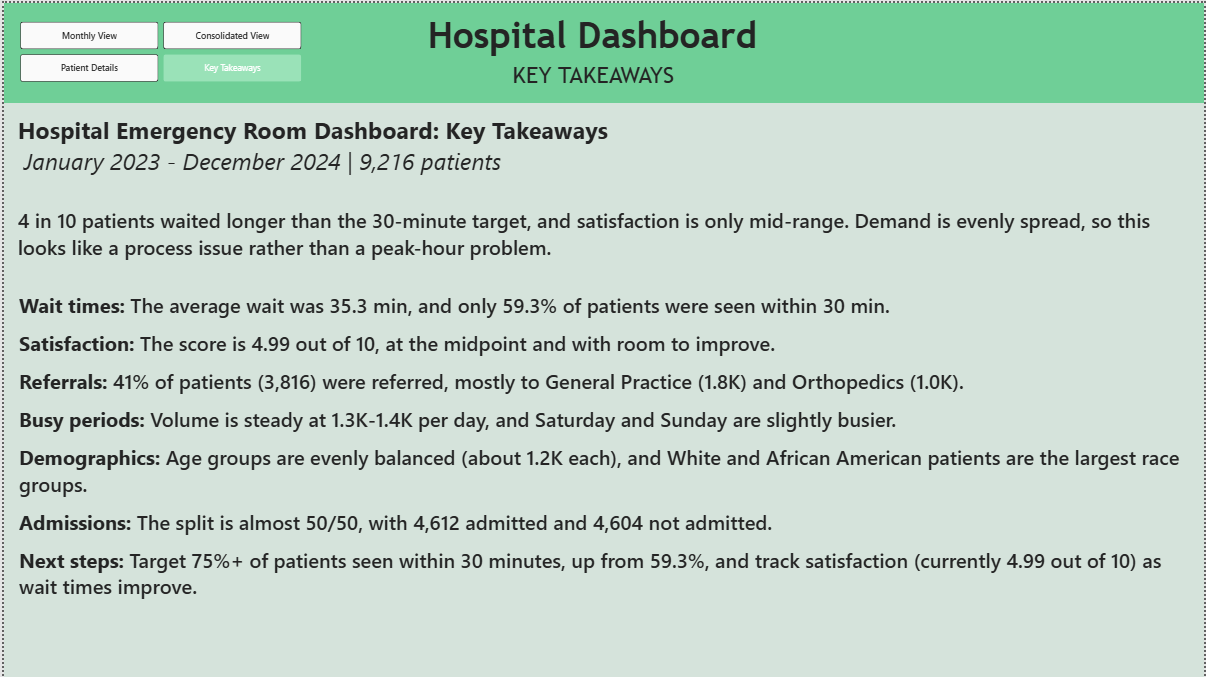

Layout of this report page (visuals, bound fields, positions):
{"tool":"powerbi","page":{"name":"Key Takeaways","canvas":[1920,1080],"ordinal":3},"visuals":[{"type":"shape","box":[0,0,1920,160],"z":0},{"type":"textbox","box":[677.9,16.4,810,75],"z":1000},{"type":"textbox","box":[677.5,92.5,530,65],"z":2000},{"type":"textbox","box":[22.5,177.5,1872.5,117.5],"z":2001},{"type":"textbox","box":[22,326,1874,136],"z":2002},{"type":"textbox","box":[24,462,1872,594],"z":2003},{"type":"pageNavigator","box":[26,30,450,96],"z":2004}]}

Visuals, with their boxes in screenshot pixels (x1, y1, x2, y2), scaled from the page's 1920x1080 canvas onto the 1206x677 screenshot:
shape: bbox=[0, 0, 1205, 100]
textbox: bbox=[426, 10, 935, 57]
textbox: bbox=[426, 58, 758, 99]
textbox: bbox=[14, 111, 1190, 185]
textbox: bbox=[14, 204, 1191, 290]
textbox: bbox=[15, 290, 1191, 662]
pageNavigator: bbox=[16, 19, 299, 79]
